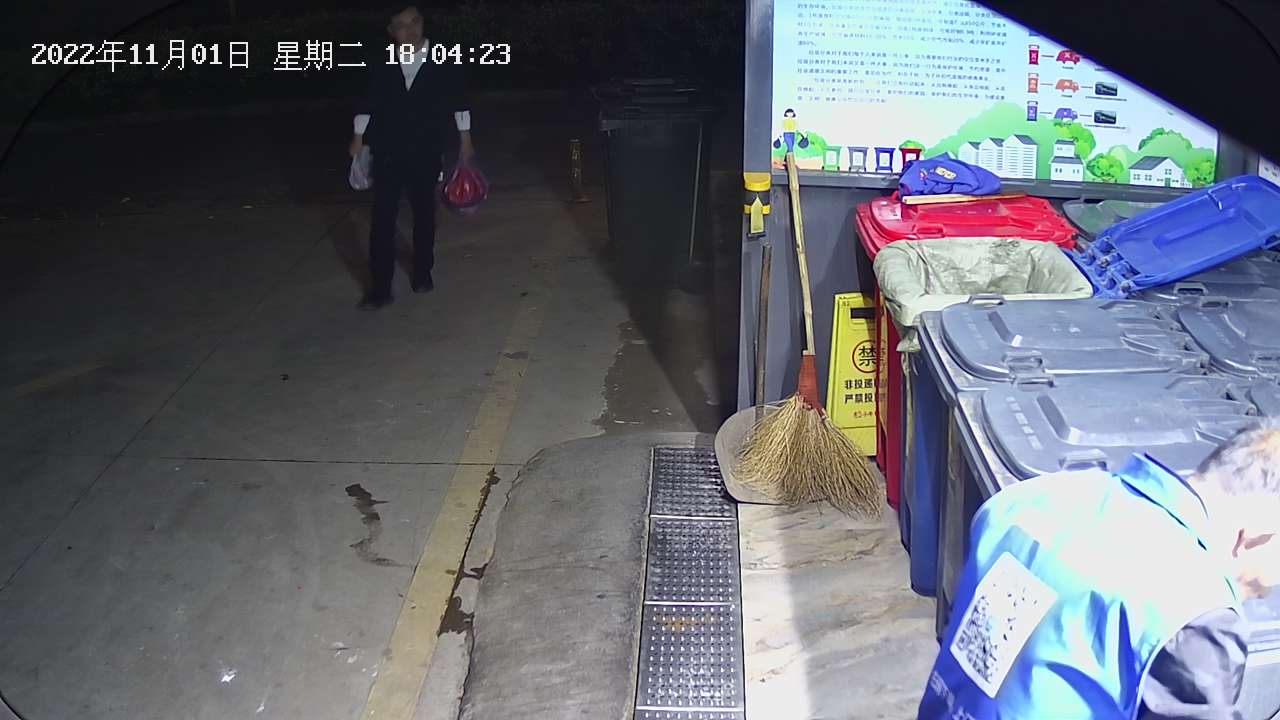garbage-bag: (440, 153, 491, 211), (347, 142, 374, 192)
person: (347, 1, 478, 314)
